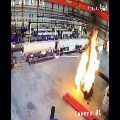fire: (75, 30, 101, 91)
